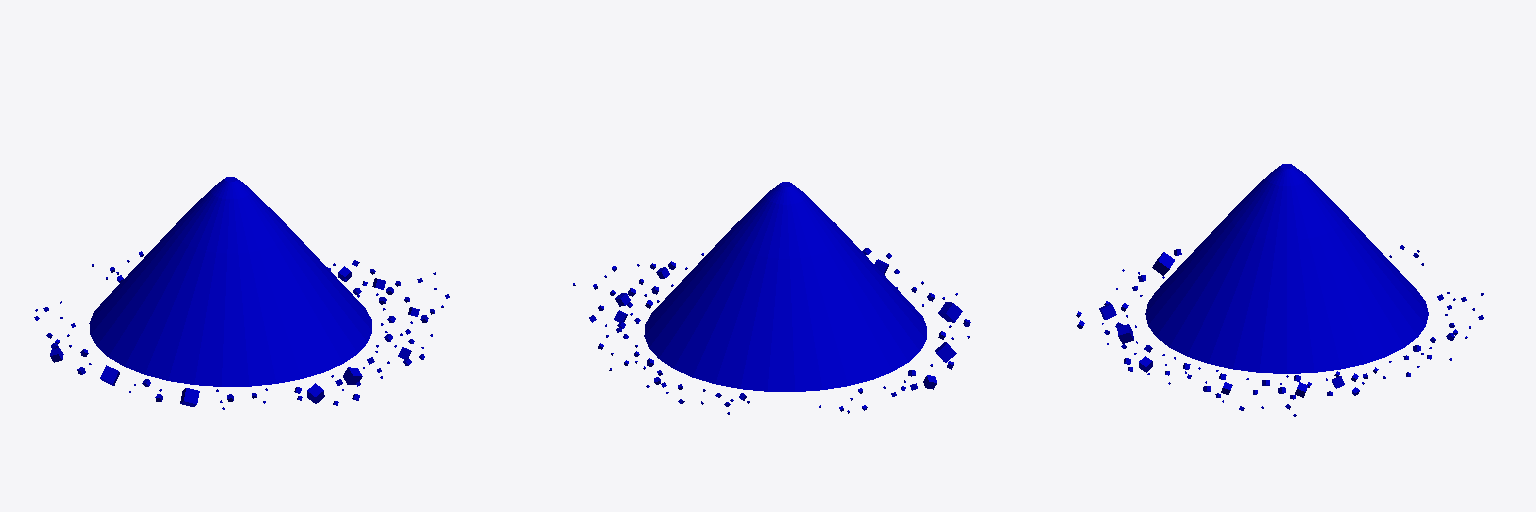
The model's file is Pigment.obj.
3 views of the same model, side by side, from view 1: azimuth 30°, elevation 25°; view 2: azimuth 150°, elevation 25°; view 3: azimuth 270°, elevation 25° (orthographic).
Parts seen in each view (by area): view 1: Cube.021_Cube.022; view 2: Cube.021_Cube.022; view 3: Cube.021_Cube.022.
Boxes of the visible parts, <box> form: Cube.021_Cube.022: <box>34,177,449,409</box>; Cube.021_Cube.022: <box>573,182,970,414</box>; Cube.021_Cube.022: <box>1076,164,1483,416</box>.
Bounding box in the file's own units: 3.06 × 1.23 × 2.88.